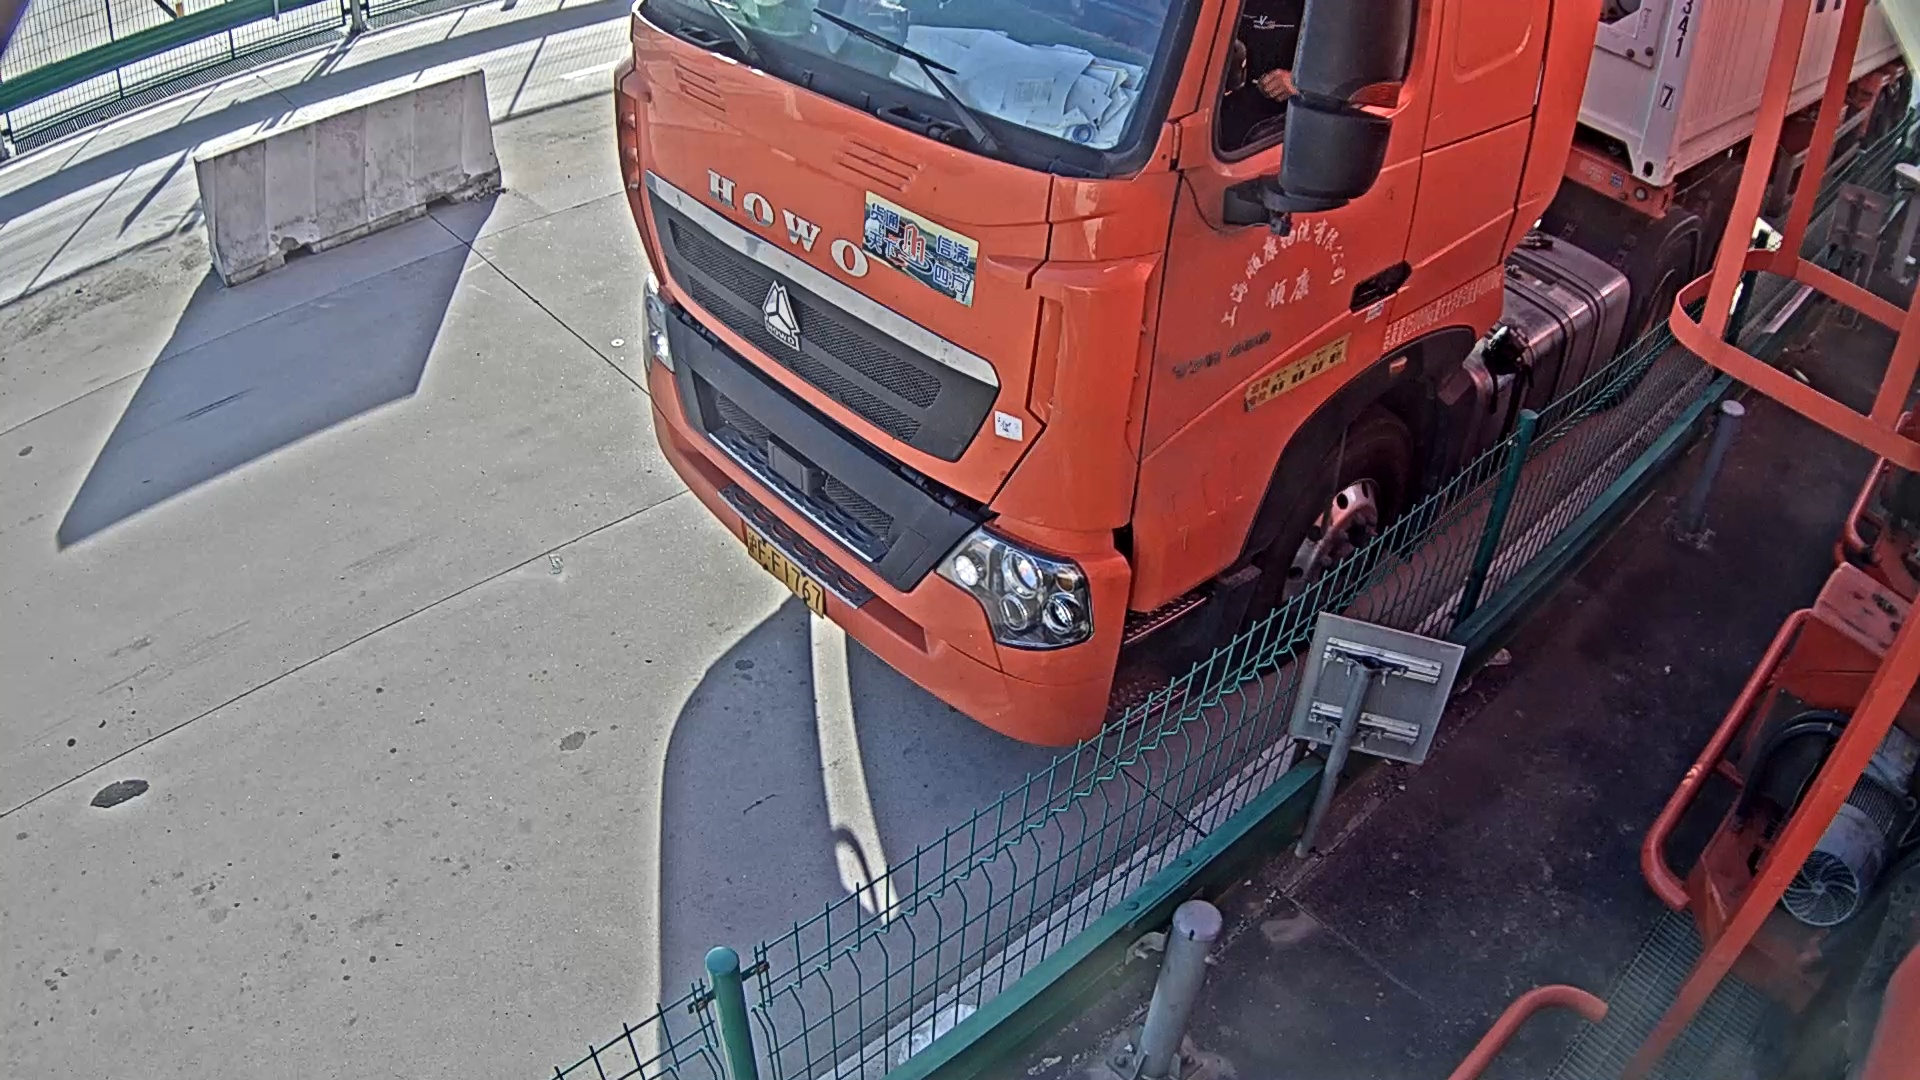head: (612, 1, 1593, 755)
plate: (741, 518, 829, 615)
